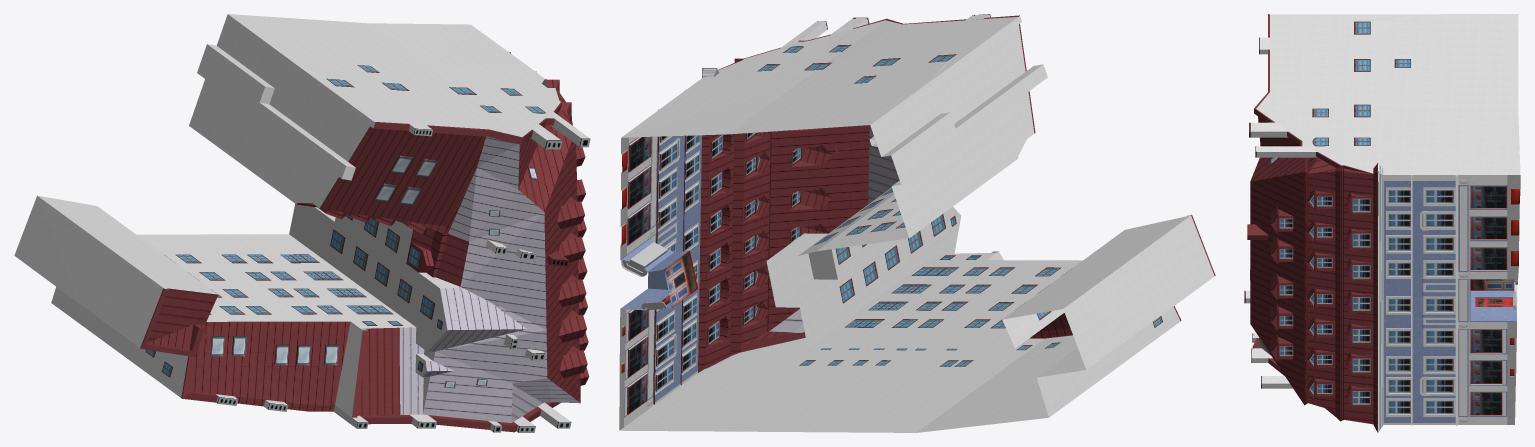
The model's file is Suur_Karja_4.obj.
3 renders of one model, left to right at view 1: azimuth 30°, elevation 25°; view 2: azimuth 150°, elevation 25°; view 3: azimuth 270°, elevation 25°, orthographic. The views are drawn at different scales.
Visible parts, largest first — view 1: Suur_Karja_4; view 2: Suur_Karja_4; view 3: Suur_Karja_4.
Part boxes in pixels (box(x1,y1,x2,y2)): Suur_Karja_4: box(14, 14, 590, 432); Suur_Karja_4: box(619, 14, 1215, 432); Suur_Karja_4: box(1244, 14, 1520, 432).
Bounding box in the file's own units: 39.31 × 29.8 × 23.74.
